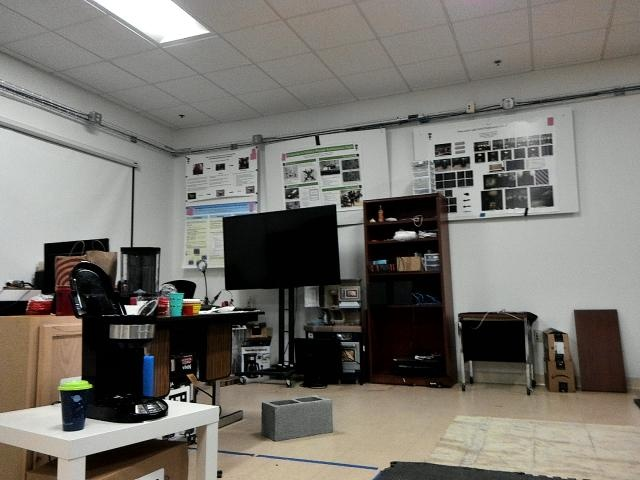coffee_cup: (166, 291, 187, 320)
water_cup: (58, 380, 92, 434)
